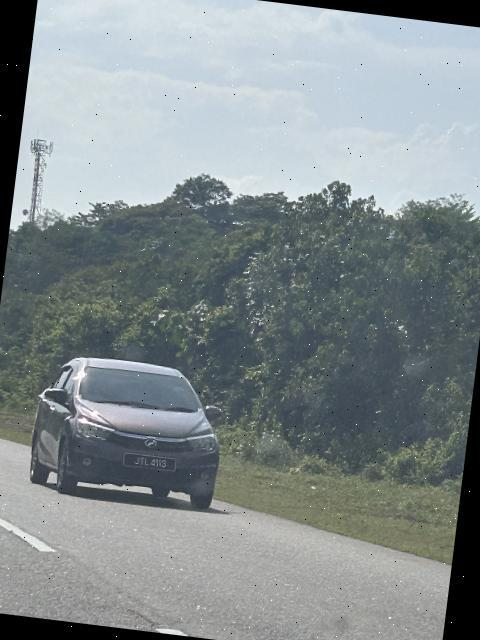JTL4113: (123, 452, 179, 474)
License_Plate: (123, 452, 179, 474)
car: (26, 350, 231, 509)
